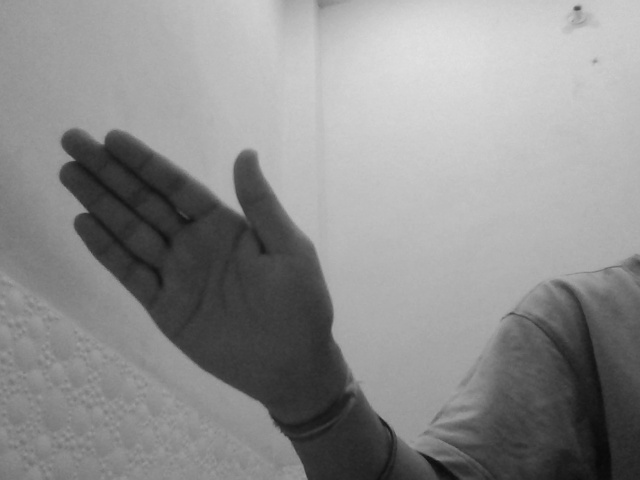Hello: (52, 117, 336, 411)
